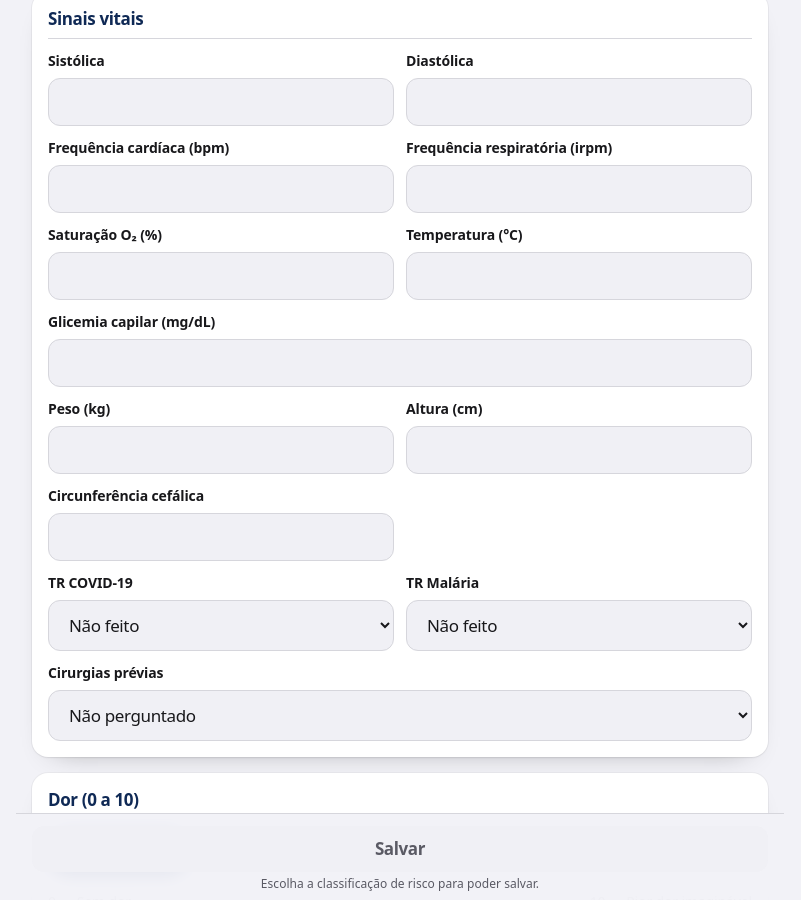
Triagem › mostra o IMC assim que peso e altura existem
(page scrolled)
Type "70" into the number field labelled "Peso (kg)" at point(221, 450), box [48,426,394,474]
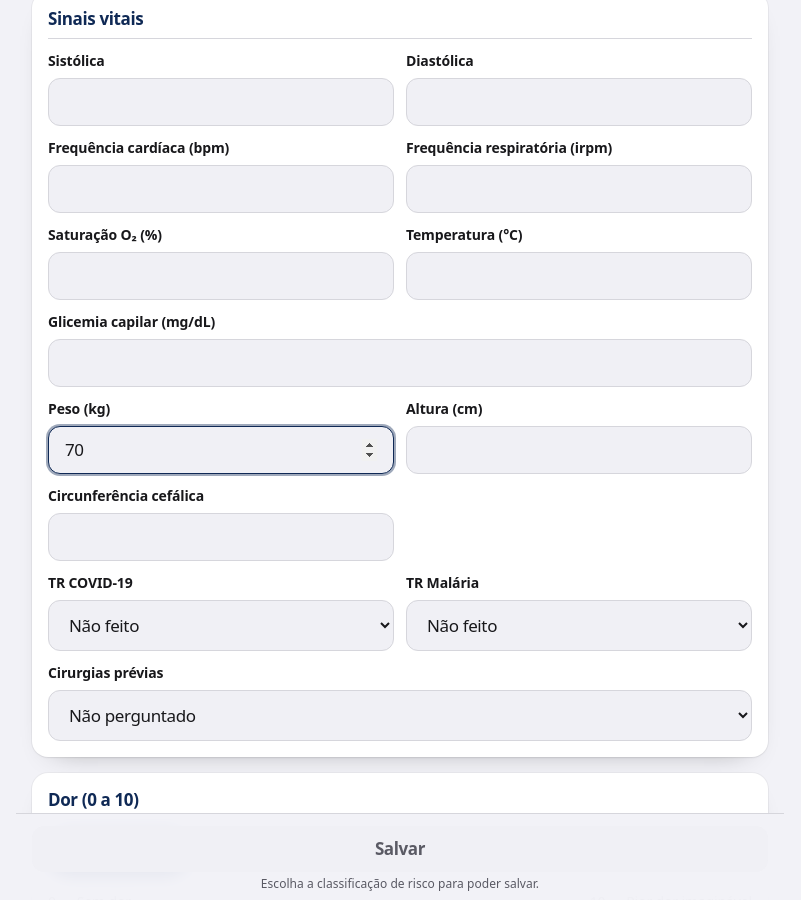
Type "175" into the number field labelled "Altura (cm)" at point(579, 450), box [406,426,752,474]
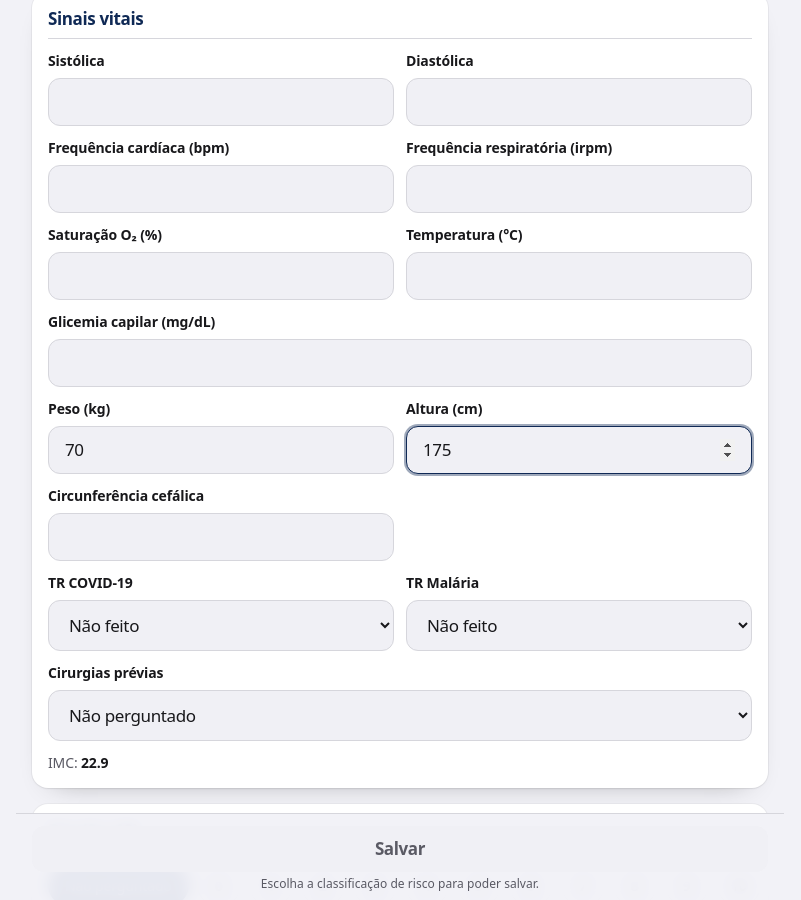
Expected: the text "22.9" is shown, [81,753,108,772]
